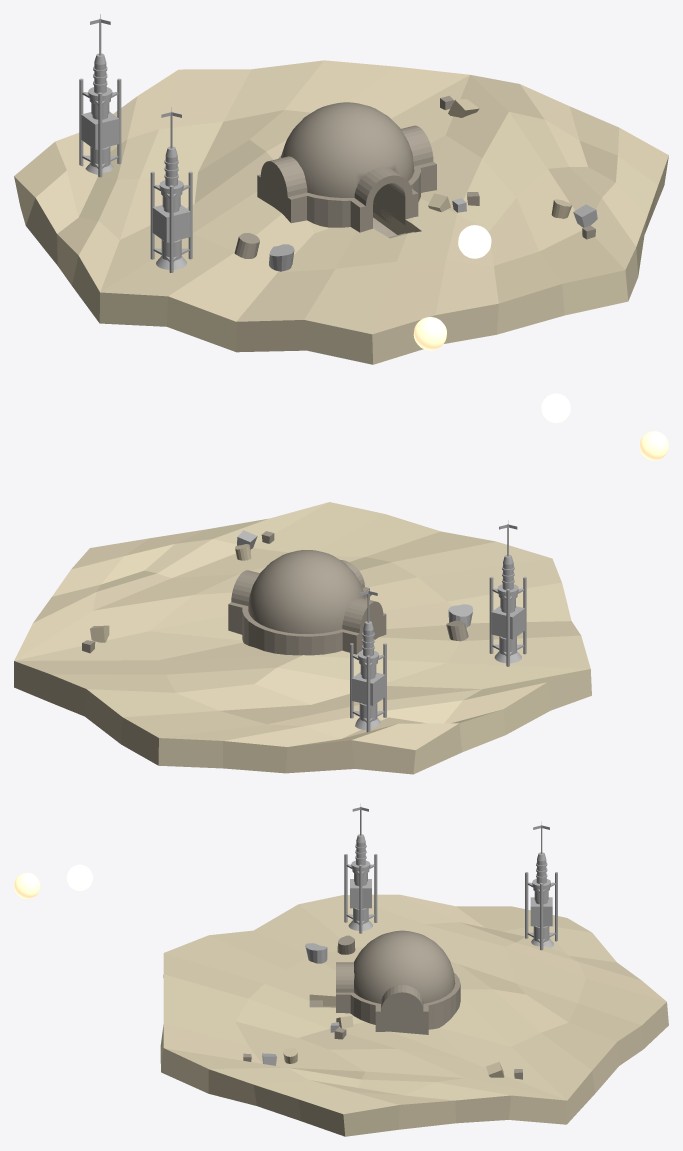
Rendered from tatoonie.fbx.
3 renders of one model, top to bottom at view 1: azimuth 30°, elevation 25°; view 2: azimuth 150°, elevation 25°; view 3: azimuth 270°, elevation 25°, orthographic. The views are drawn at different scales.
Visible parts, largest first — view 1: ground 1.001_2, house_main_3, house_front_4, house_left_5, house_around_7, house_right_6, Cube.009_43, Cube.001_26, Sphere.001_22, Sphere.002_23, Cylinder.022_13, Cylinder.023_15; view 2: ground 1.001_2, house_main_3, house_around_7, house_left_5, house_right_6, Cube.001_26, Cube.009_43, Sphere.002_23, Sphere.001_22; view 3: ground 1.001_2, house_main_3, house_right_6, house_around_7, house_front_4, Sphere.001_22, Sphere.002_23, Cube.001_26, Cube.009_43.
Boxes of the visible parts, box(x1,y1,x2,y2) form: ground 1.001_2: box(14, 60, 668, 364); house_main_3: box(281, 102, 414, 202); house_front_4: box(347, 167, 418, 232); house_left_5: box(257, 156, 312, 223); house_around_7: box(278, 155, 420, 227); house_right_6: box(401, 125, 436, 192); Cube.009_43: box(152, 204, 190, 242); Cube.001_26: box(81, 111, 119, 149); Sphere.001_22: box(458, 225, 491, 258); Sphere.002_23: box(413, 317, 446, 350); Cylinder.022_13: box(269, 244, 294, 271); Cylinder.023_15: box(234, 233, 259, 258); ground 1.001_2: box(14, 502, 591, 774); house_main_3: box(248, 550, 365, 633); house_around_7: box(242, 597, 367, 655); house_left_5: box(338, 597, 386, 654); house_right_6: box(228, 570, 259, 634); Cube.001_26: box(351, 672, 385, 705); Cube.009_43: box(491, 606, 524, 639); Sphere.002_23: box(639, 431, 668, 460); Sphere.001_22: box(541, 393, 570, 422); ground 1.001_2: box(160, 894, 668, 1136); house_main_3: box(354, 930, 455, 1003); house_right_6: box(375, 985, 428, 1034); house_around_7: box(350, 973, 460, 1029); house_front_4: box(336, 962, 354, 1013); Sphere.001_22: box(66, 864, 92, 890); Sphere.002_23: box(14, 872, 40, 898); Cube.001_26: box(530, 897, 552, 926); Cube.009_43: box(350, 879, 371, 908).
Bounding box in the file's own units: 3906 × 1617 × 4949.
